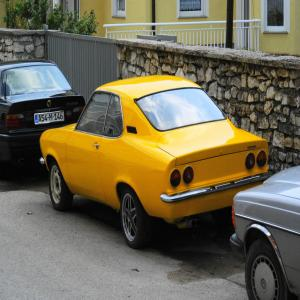Vehicle-registration-plate: (34, 110, 65, 125)
